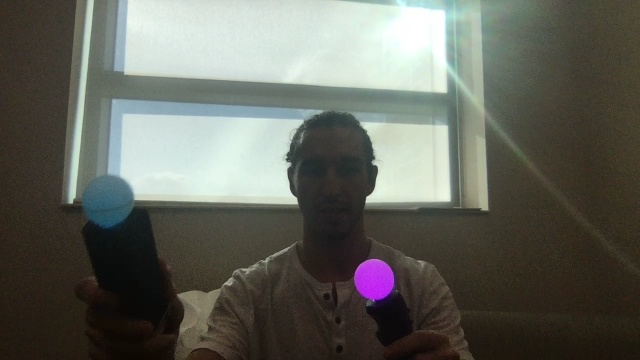wand: (85, 173, 135, 228), (354, 259, 396, 301)
